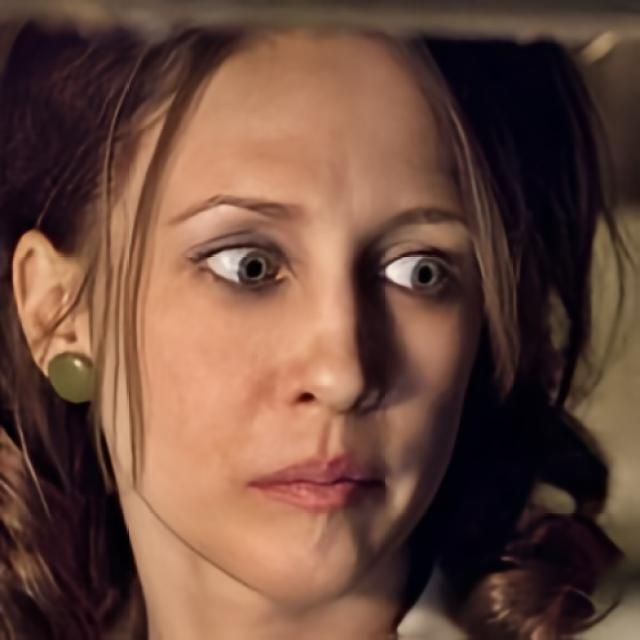fear: (95, 32, 491, 605)
